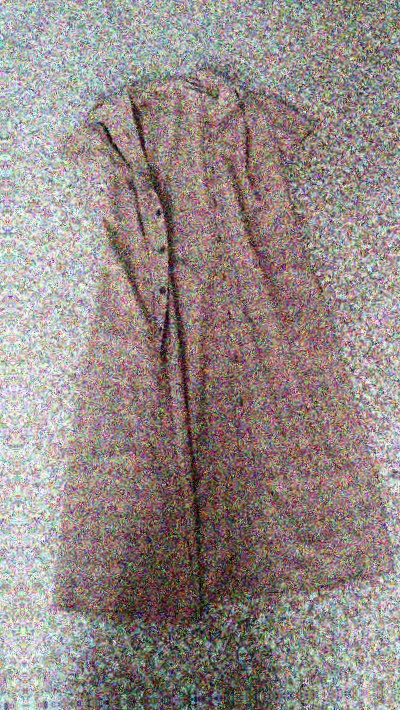Dress: (19, 49, 395, 644), (0, 64, 5, 658)
